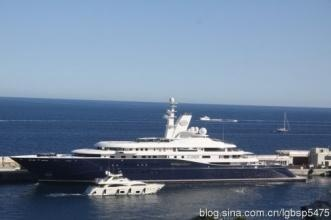yacht: (8, 105, 296, 179), (80, 168, 160, 201)
